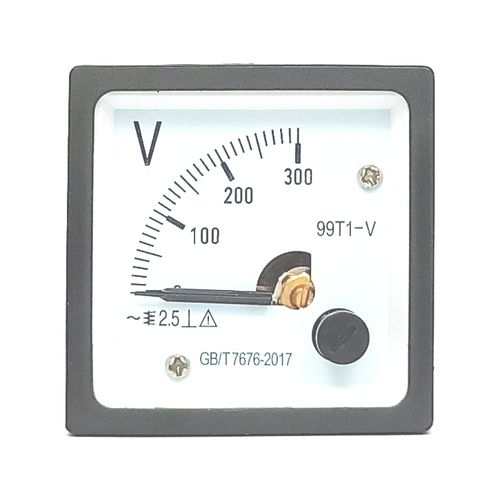pointer: (92, 90, 410, 408)
